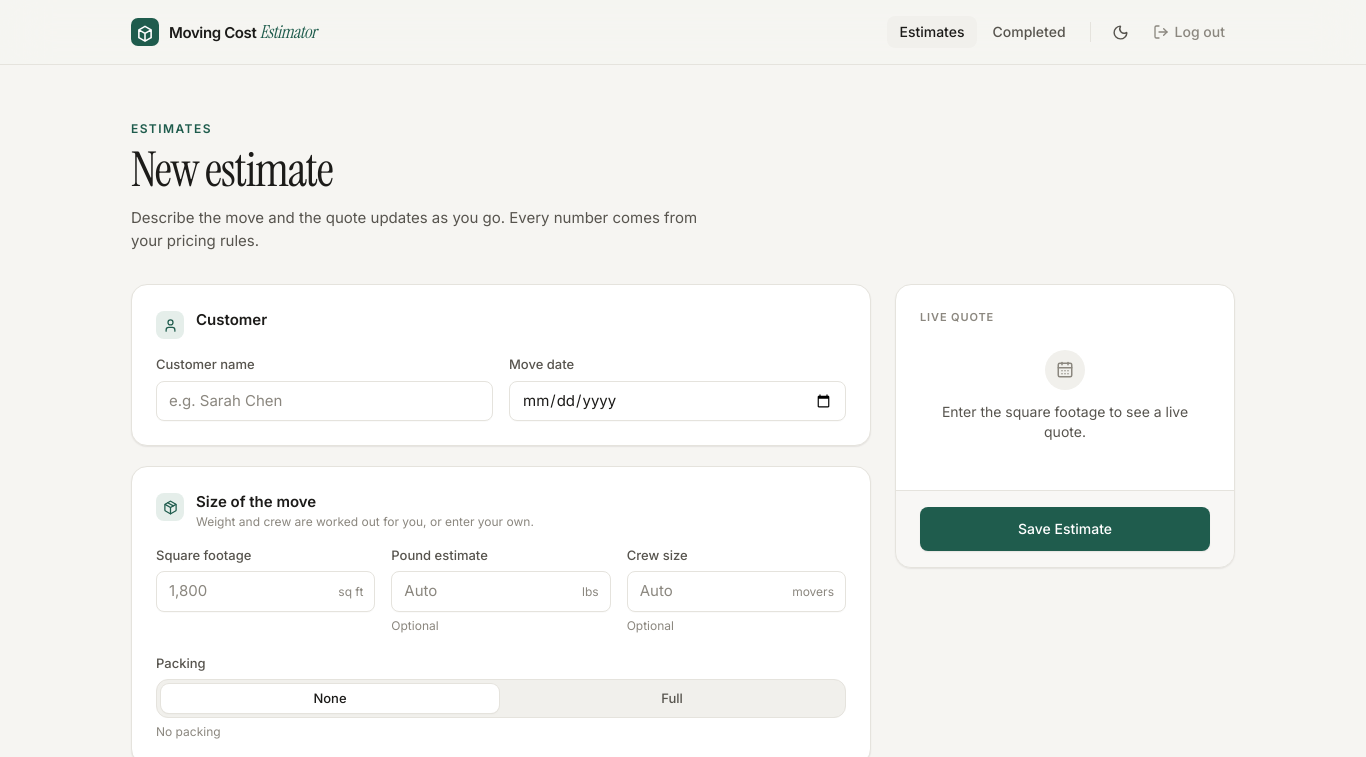
Test: Estimate page › shows API validation errors inline instead of an alert
The image size is (1366, 757).
Type "Bob" into the field labelled "Customer name".
click(324, 401); type("Bob")  # box [156,381,493,421]
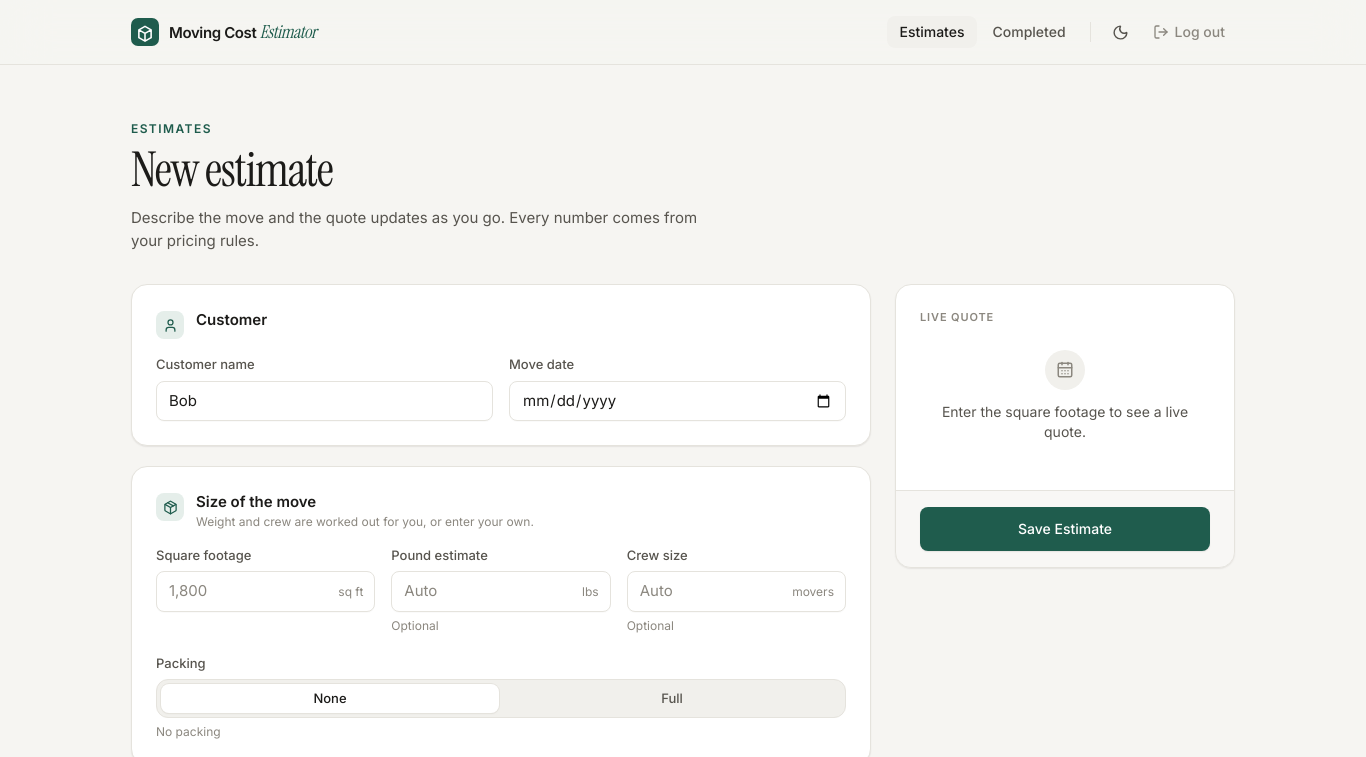
Type "5" into the number field labelled "Square footage".
click(266, 592); type("5")  # box [156,571,375,612]
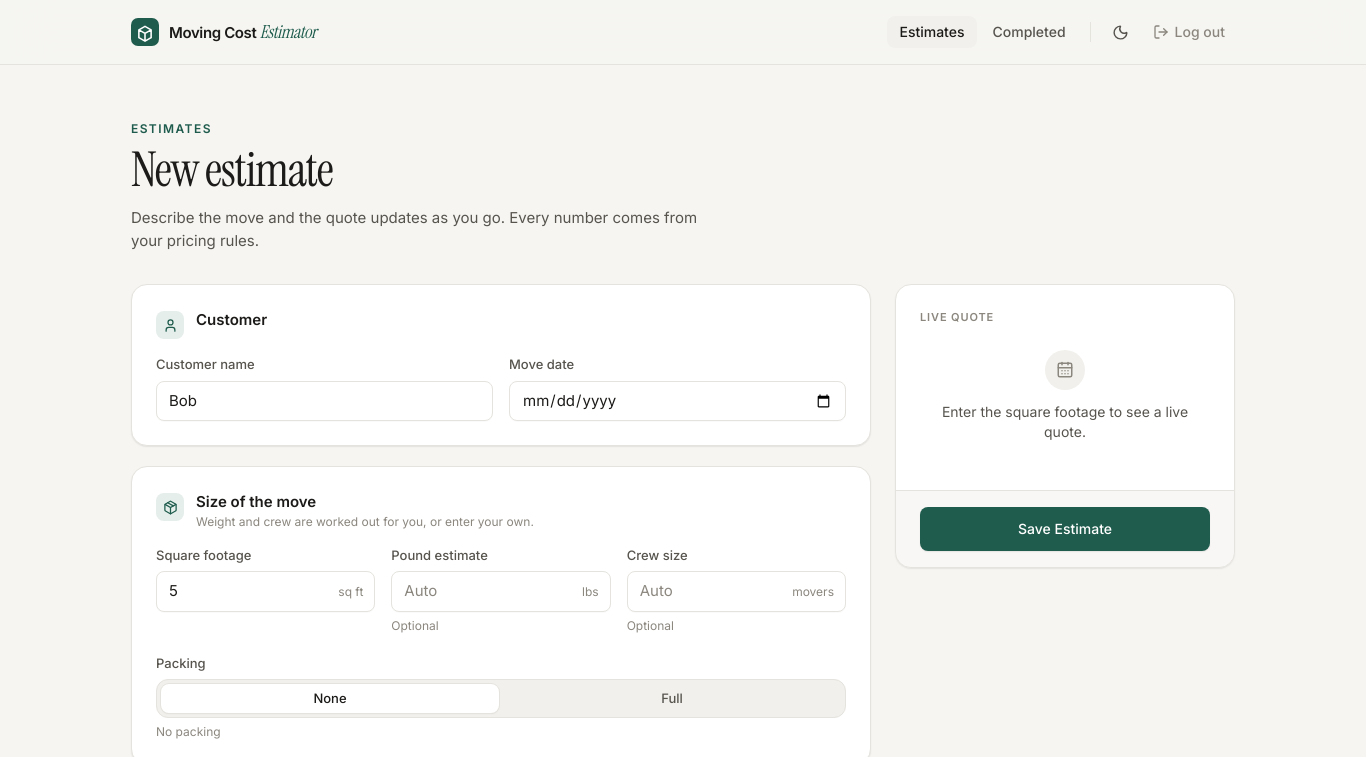
Click the button "Save Estimate".
click(1065, 529)  # box [920,507,1210,551]
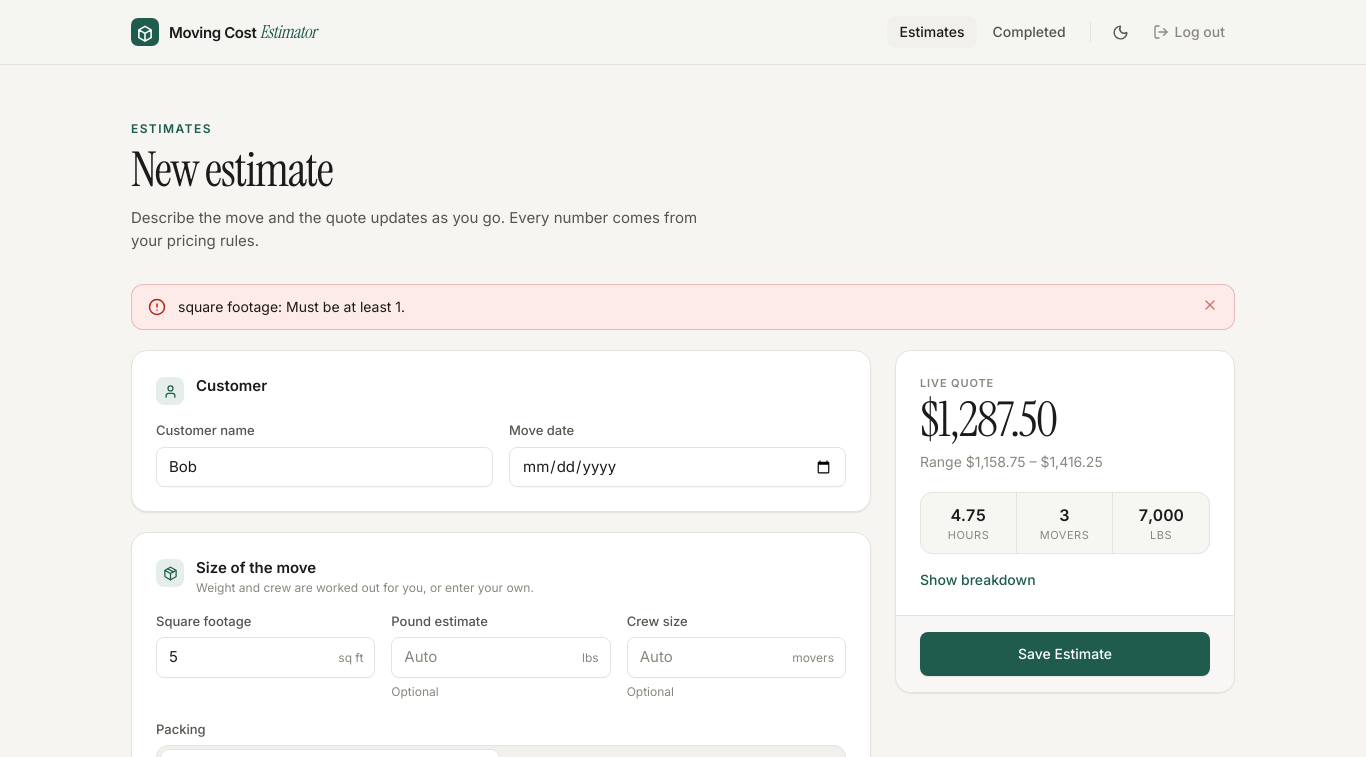
Expected: the message reads "square footage: Must be at least 1.", [178,298,405,315]
